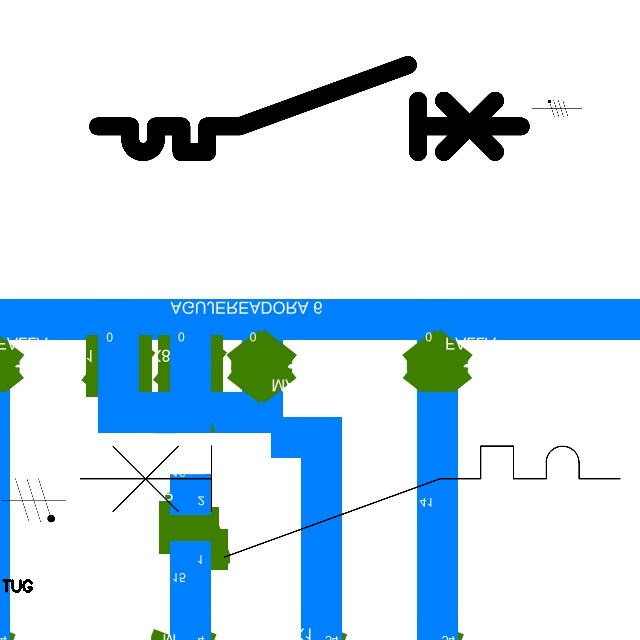interruptor_termomagnetico: (66, 432, 634, 571), (87, 54, 532, 163)
